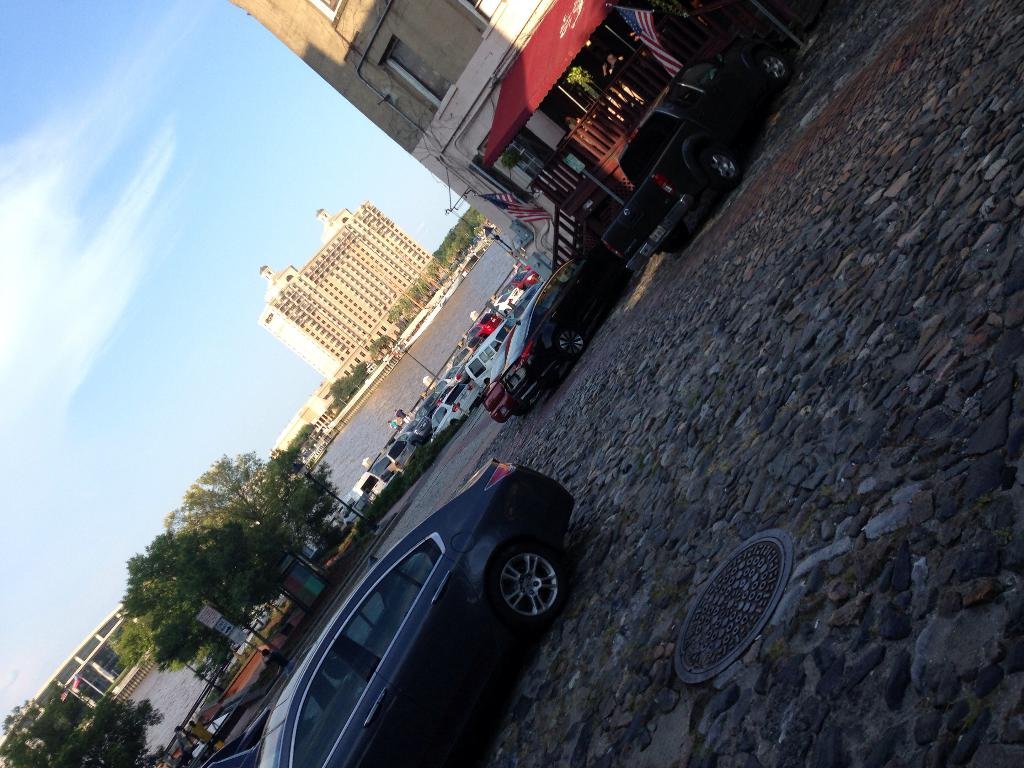Car: (174, 394, 569, 749), (487, 255, 619, 421), (478, 324, 512, 430)
